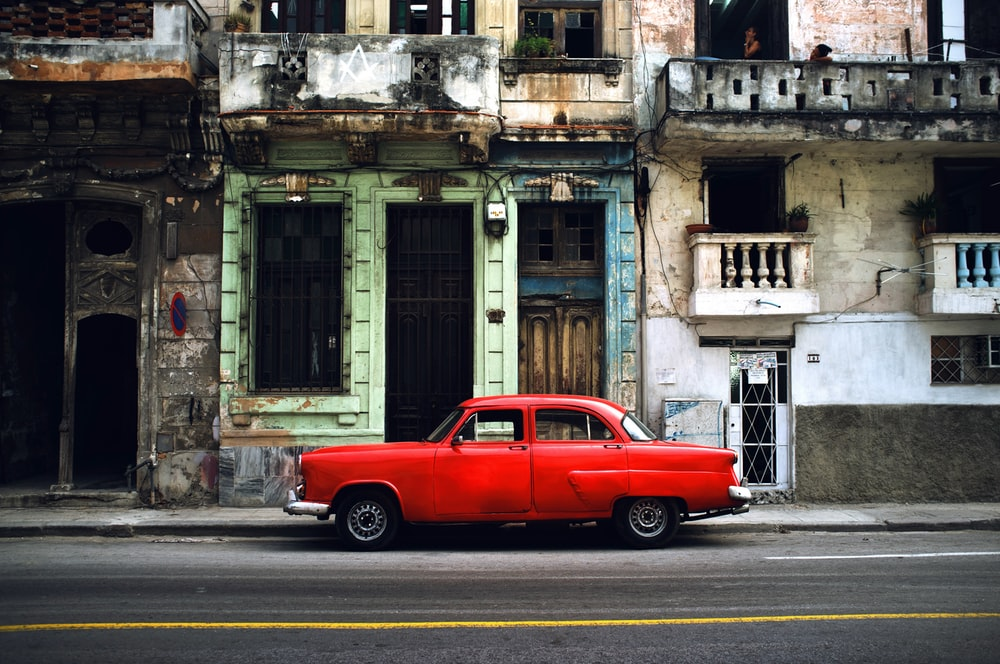car: (290, 395, 749, 548)
